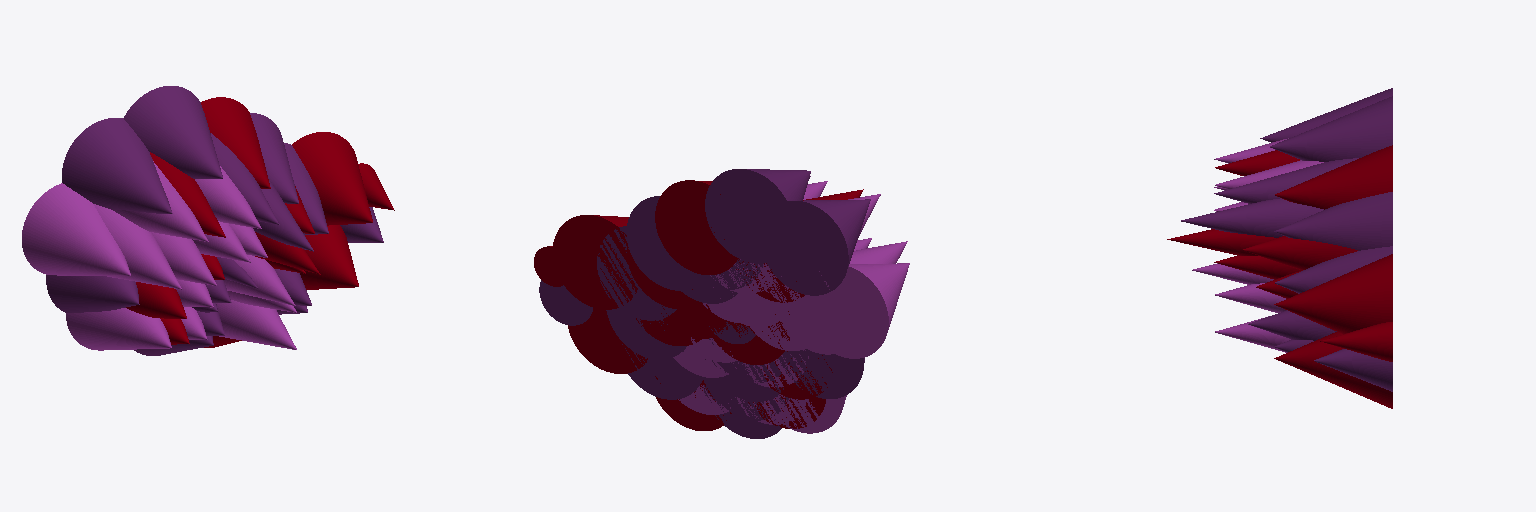
Rendered from casa-morada.obj.
The picture shows the model from 3 angles: view 1: azimuth 30°, elevation 25°; view 2: azimuth 150°, elevation 25°; view 3: azimuth 270°, elevation 25°; orthographic projection.
Visible parts, largest first — view 1: Object.29, Object.31, Object.26, Object.41, Object.36, Object.33, Object.39, Object.4, Object.40, Object.10, Object.28, Object.17 (+19 smaller); view 2: Object.26, Object.31, Object.29, Object.41, Object.4, Object.17, Object.40, Object.39, Object.19, Object.33, Object.21, Object.42 (+27 smaller); view 3: Object.41, Object.26, Object.17, Object.4, Object.5, Object.40, Object.18, Object.19, Object.24, Object.42, Object.43, Object.6 (+8 smaller).
Part boxes in pixels (x1,y1,x2,y2): Object.29: (62, 118, 172, 213); Object.31: (22, 183, 130, 275); Object.26: (124, 86, 222, 178); Object.41: (292, 132, 372, 225); Object.36: (66, 308, 171, 350); Object.33: (94, 204, 181, 289); Object.39: (46, 275, 139, 312); Object.4: (201, 97, 270, 188); Object.40: (300, 225, 358, 289); Object.10: (216, 300, 296, 349); Object.28: (113, 161, 208, 241); Object.17: (250, 113, 298, 203); Object.26: (705, 169, 810, 263); Object.31: (801, 263, 909, 358); Object.29: (767, 199, 870, 295); Object.41: (553, 215, 637, 309); Object.4: (655, 180, 738, 274); Object.17: (627, 196, 703, 290); Object.40: (568, 308, 647, 373); Object.39: (779, 349, 864, 398); Object.19: (597, 226, 676, 320); Object.33: (779, 241, 907, 354); Object.21: (606, 278, 686, 359); Object.42: (539, 280, 592, 325); Object.41: (1274, 254, 1392, 333); Object.26: (1270, 96, 1392, 161); Object.17: (1274, 192, 1392, 250); Object.4: (1275, 145, 1392, 209); Object.5: (1181, 198, 1323, 237); Object.40: (1274, 332, 1392, 408); Object.18: (1243, 236, 1357, 270); Object.19: (1275, 246, 1392, 293); Object.24: (1214, 158, 1358, 203); Object.42: (1314, 349, 1392, 391); Object.43: (1320, 322, 1392, 361); Object.6: (1167, 229, 1275, 255).
Size of the model in its own units: 248 by 183 by 137.